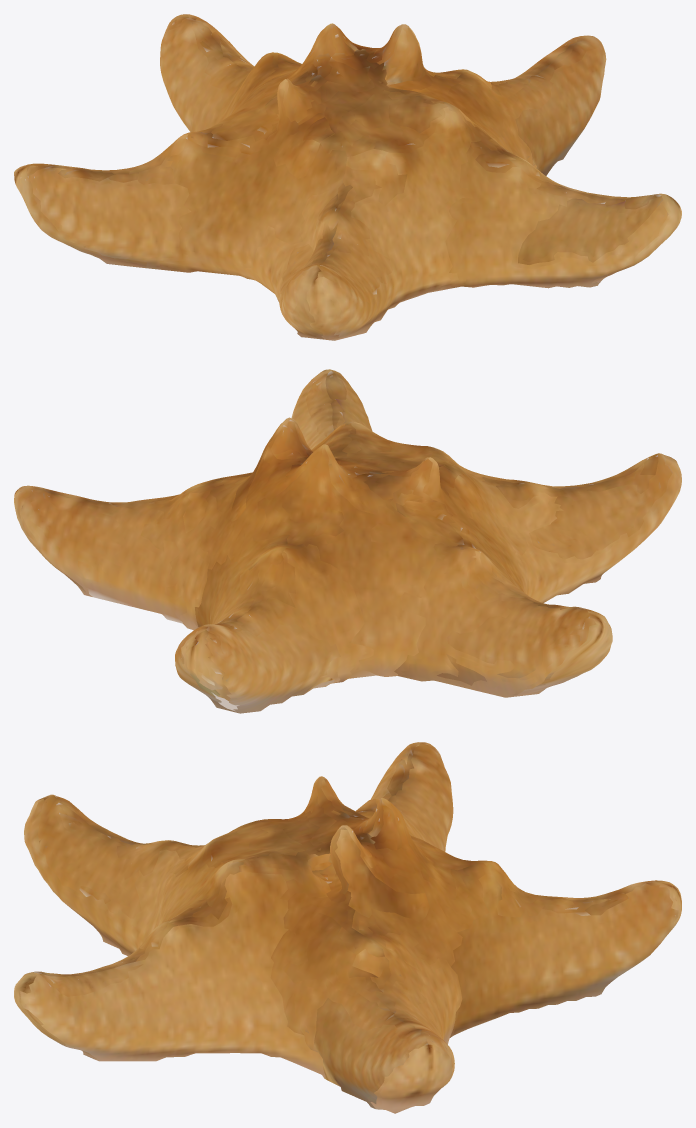
Rendered from starfish.glb.
3 views of the same model, one above another, from view 1: azimuth 30°, elevation 25°; view 2: azimuth 150°, elevation 25°; view 3: azimuth 270°, elevation 25° (orthographic). The views are drawn at different scales.
Parts seen in each view (by area): view 1: Object_2; view 2: Object_2; view 3: Object_2.
Boxes of the visible parts, x1,y1,x2,y2 form: Object_2: [14, 14, 681, 340]; Object_2: [14, 369, 681, 713]; Object_2: [14, 742, 681, 1113].
Bounding box in the file's own units: 103 × 31.44 × 97.98.
1 material, 1 textured.
